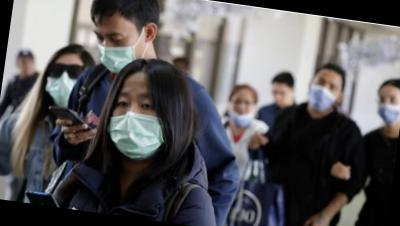mask_weared_incorrect: (226, 95, 258, 129)
with_mask: (103, 83, 174, 164), (43, 56, 89, 111), (307, 73, 343, 112), (374, 90, 400, 126)
without_mask: (269, 84, 295, 109)
